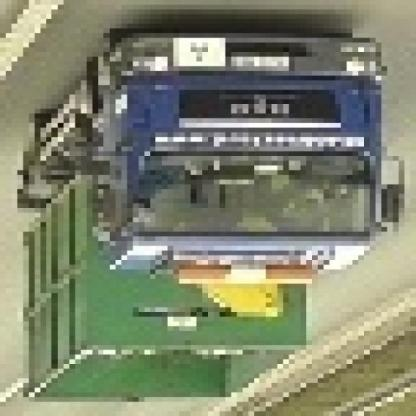truck: (30, 29, 411, 408)
